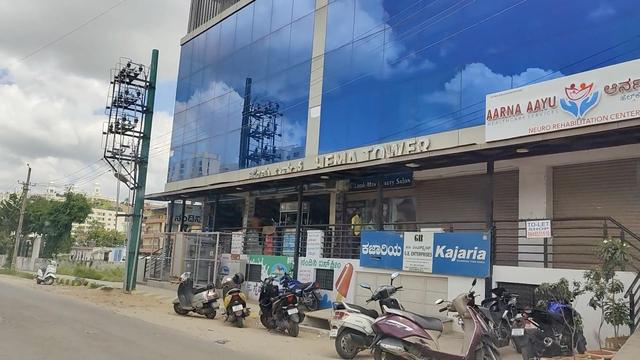LMV: (372, 305, 478, 360), (256, 277, 307, 328), (173, 277, 216, 321), (226, 270, 247, 324)
